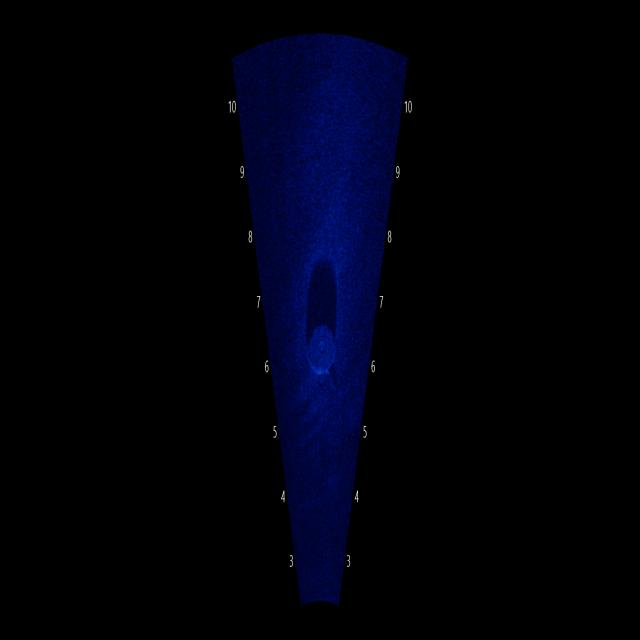circle: (306, 314, 338, 386)
